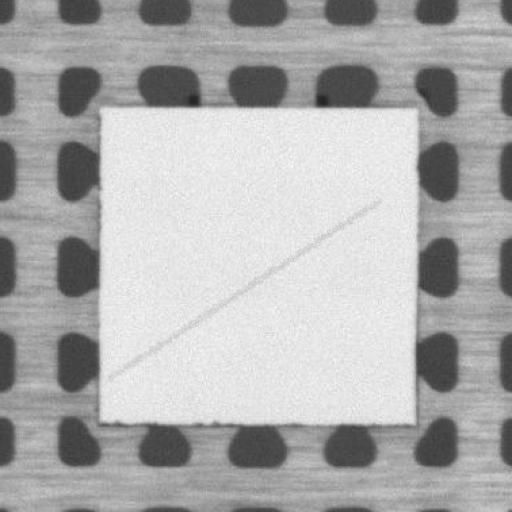DIE_CRACK: (107, 200, 377, 380)
